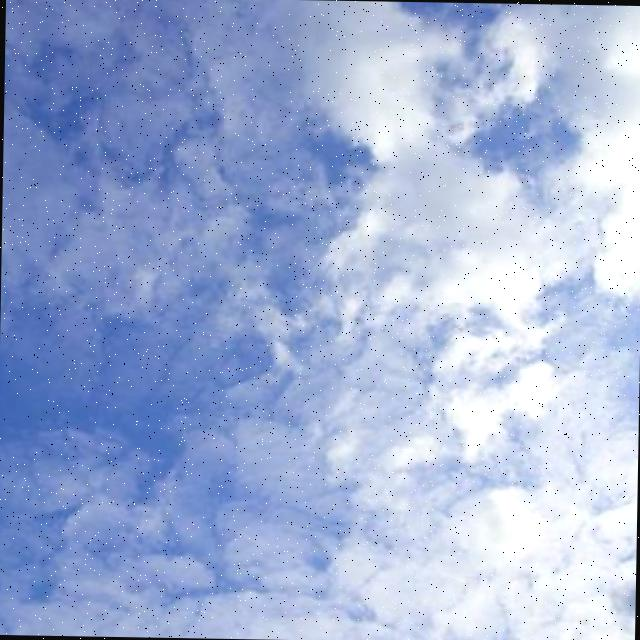As: (1, 1, 640, 566)
